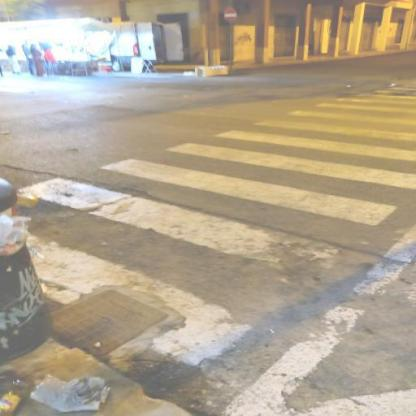crosswalk: (90, 140, 413, 230)
